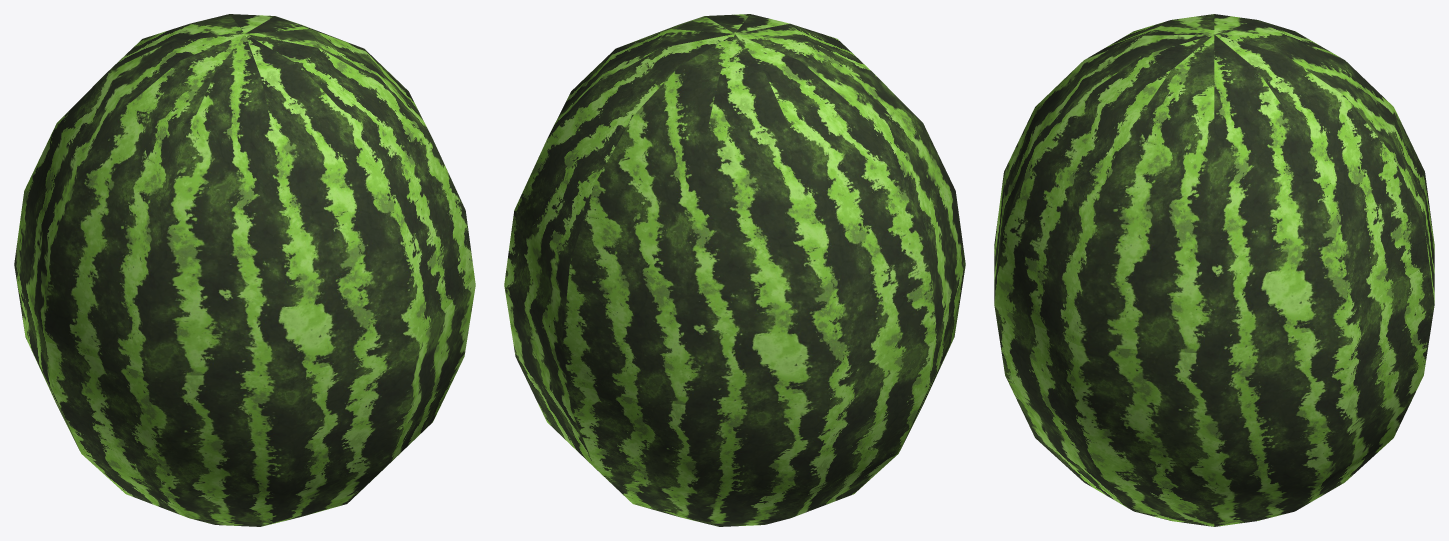
The model's file is Water melon.fbx.
The picture shows the model from 3 angles, left to right: view 1: azimuth 30°, elevation 25°; view 2: azimuth 150°, elevation 25°; view 3: azimuth 270°, elevation 25°; orthographic projection.
Parts seen in each view (by area): view 1: Watermelon; view 2: Watermelon; view 3: Watermelon.
Boxes of the visible parts, box(x1,y1,x2,y2) form: Watermelon: box(14, 14, 475, 526); Watermelon: box(504, 14, 965, 526); Watermelon: box(994, 14, 1434, 526).
Bounding box in the file's own units: 52.95 × 59.42 × 50.36.
1 material, 1 textured.
